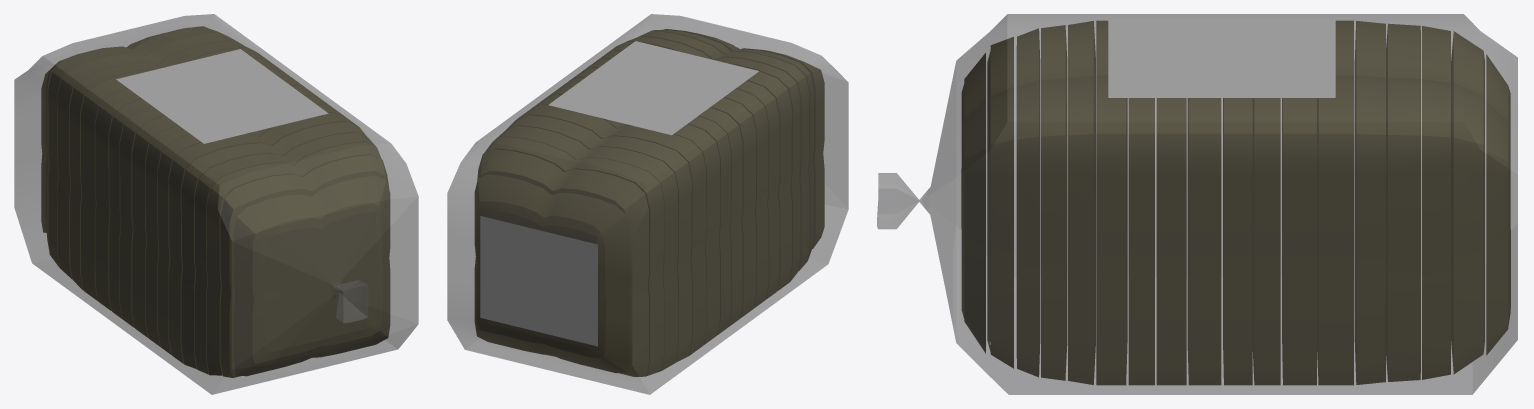
File: bread.fbx
The picture shows the model from 3 angles, left to right: view 1: azimuth 30°, elevation 25°; view 2: azimuth 150°, elevation 25°; view 3: azimuth 270°, elevation 25°; orthographic projection. The views are drawn at different scales.
Parts seen in each view (by area): view 1: group2; view 2: group2; view 3: group2.
Boxes of the visible parts, box(x1,y1,x2,y2) form: group2: box(14, 14, 418, 394); group2: box(447, 14, 848, 394); group2: box(877, 14, 1517, 394).
Bounding box in the file's own units: 0.9524 × 1.04 × 2.18.
